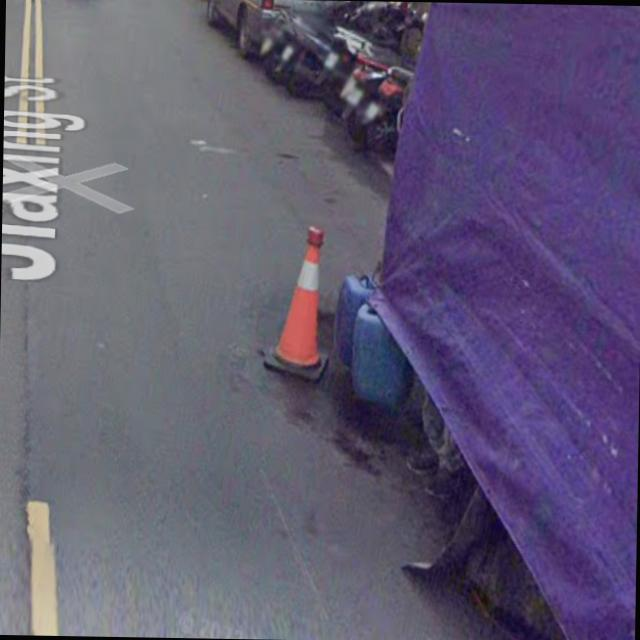cone: (266, 199, 336, 384)
